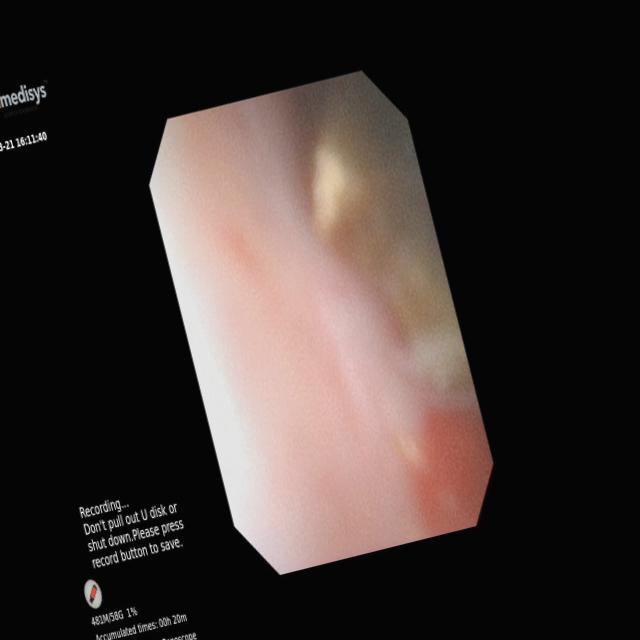stone-new: (298, 72, 478, 409)
